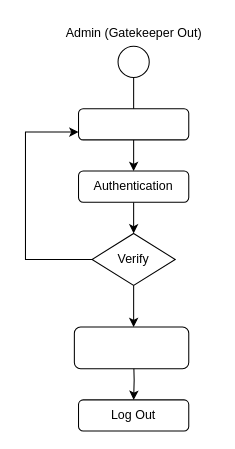
Image size: 235x449. Some labels were removed from this diagram. Here are the shapes that lost their labels. From the top down, the box of each, then its label:
(77, 108, 189, 140): Log in
(73, 326, 189, 369): Visitor Category
